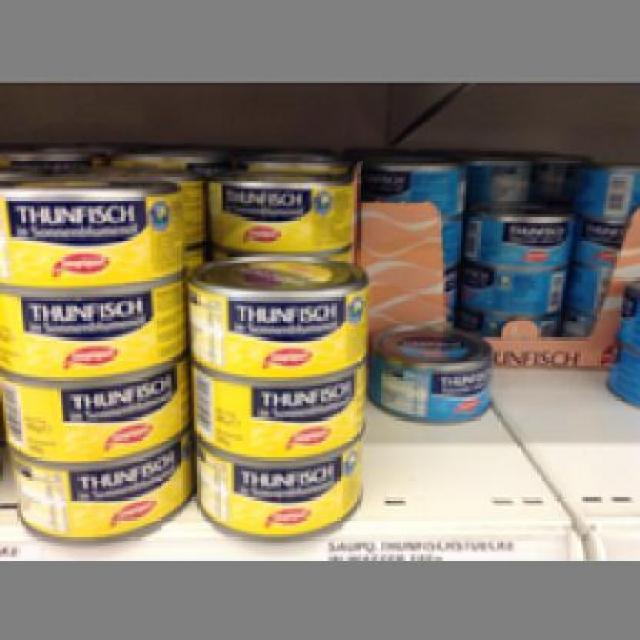Fish: (182, 251, 368, 380), (0, 177, 177, 280), (186, 360, 366, 460), (0, 283, 183, 380), (190, 443, 364, 543), (0, 449, 186, 540), (0, 374, 186, 463), (368, 320, 492, 423), (460, 200, 569, 266)
